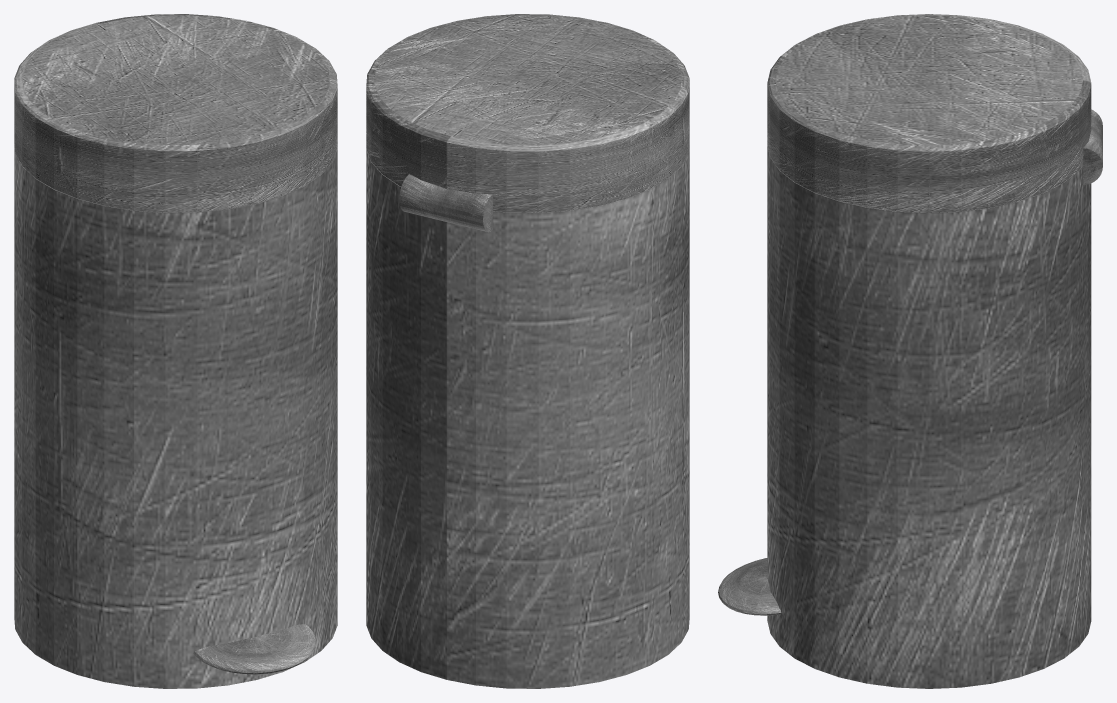
File: TrashCan.fbx
The picture shows the model from 3 angles, left to right: view 1: azimuth 30°, elevation 25°; view 2: azimuth 150°, elevation 25°; view 3: azimuth 270°, elevation 25°; orthographic projection.
Parts seen in each view (by area): view 1: Cylinder, Cylinder.001, Sphere; view 2: Cylinder, Cylinder.001, Cylinder.002; view 3: Cylinder, Cylinder.001, Sphere, Cylinder.002.
Boxes of the visible parts, x1,y1,x2,y2 form: Cylinder: (14, 144, 337, 688); Cylinder.001: (14, 14, 337, 212); Sphere: (193, 624, 316, 674); Cylinder: (366, 144, 689, 688); Cylinder.001: (366, 14, 689, 212); Cylinder.002: (399, 174, 492, 232); Cylinder: (767, 145, 1091, 688); Cylinder.001: (767, 14, 1091, 212); Sphere: (718, 558, 781, 615); Cylinder.002: (1083, 109, 1102, 184).
Size of the model in its own units: 200 by 368 by 237.
